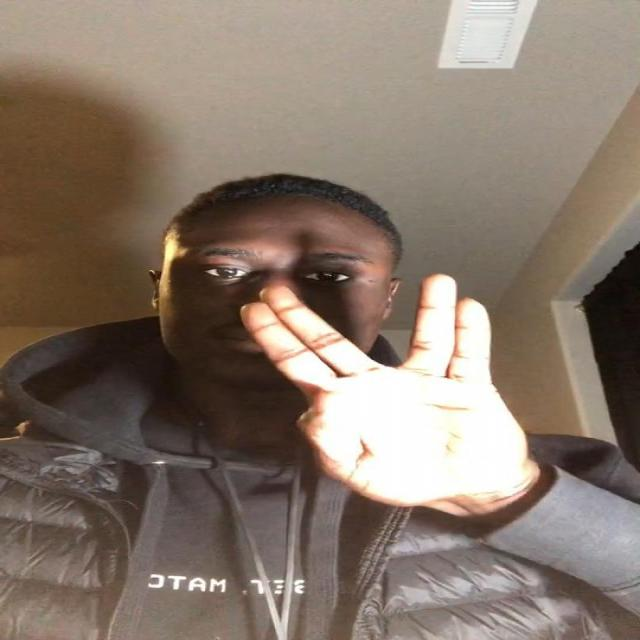face: (160, 202, 389, 391)
